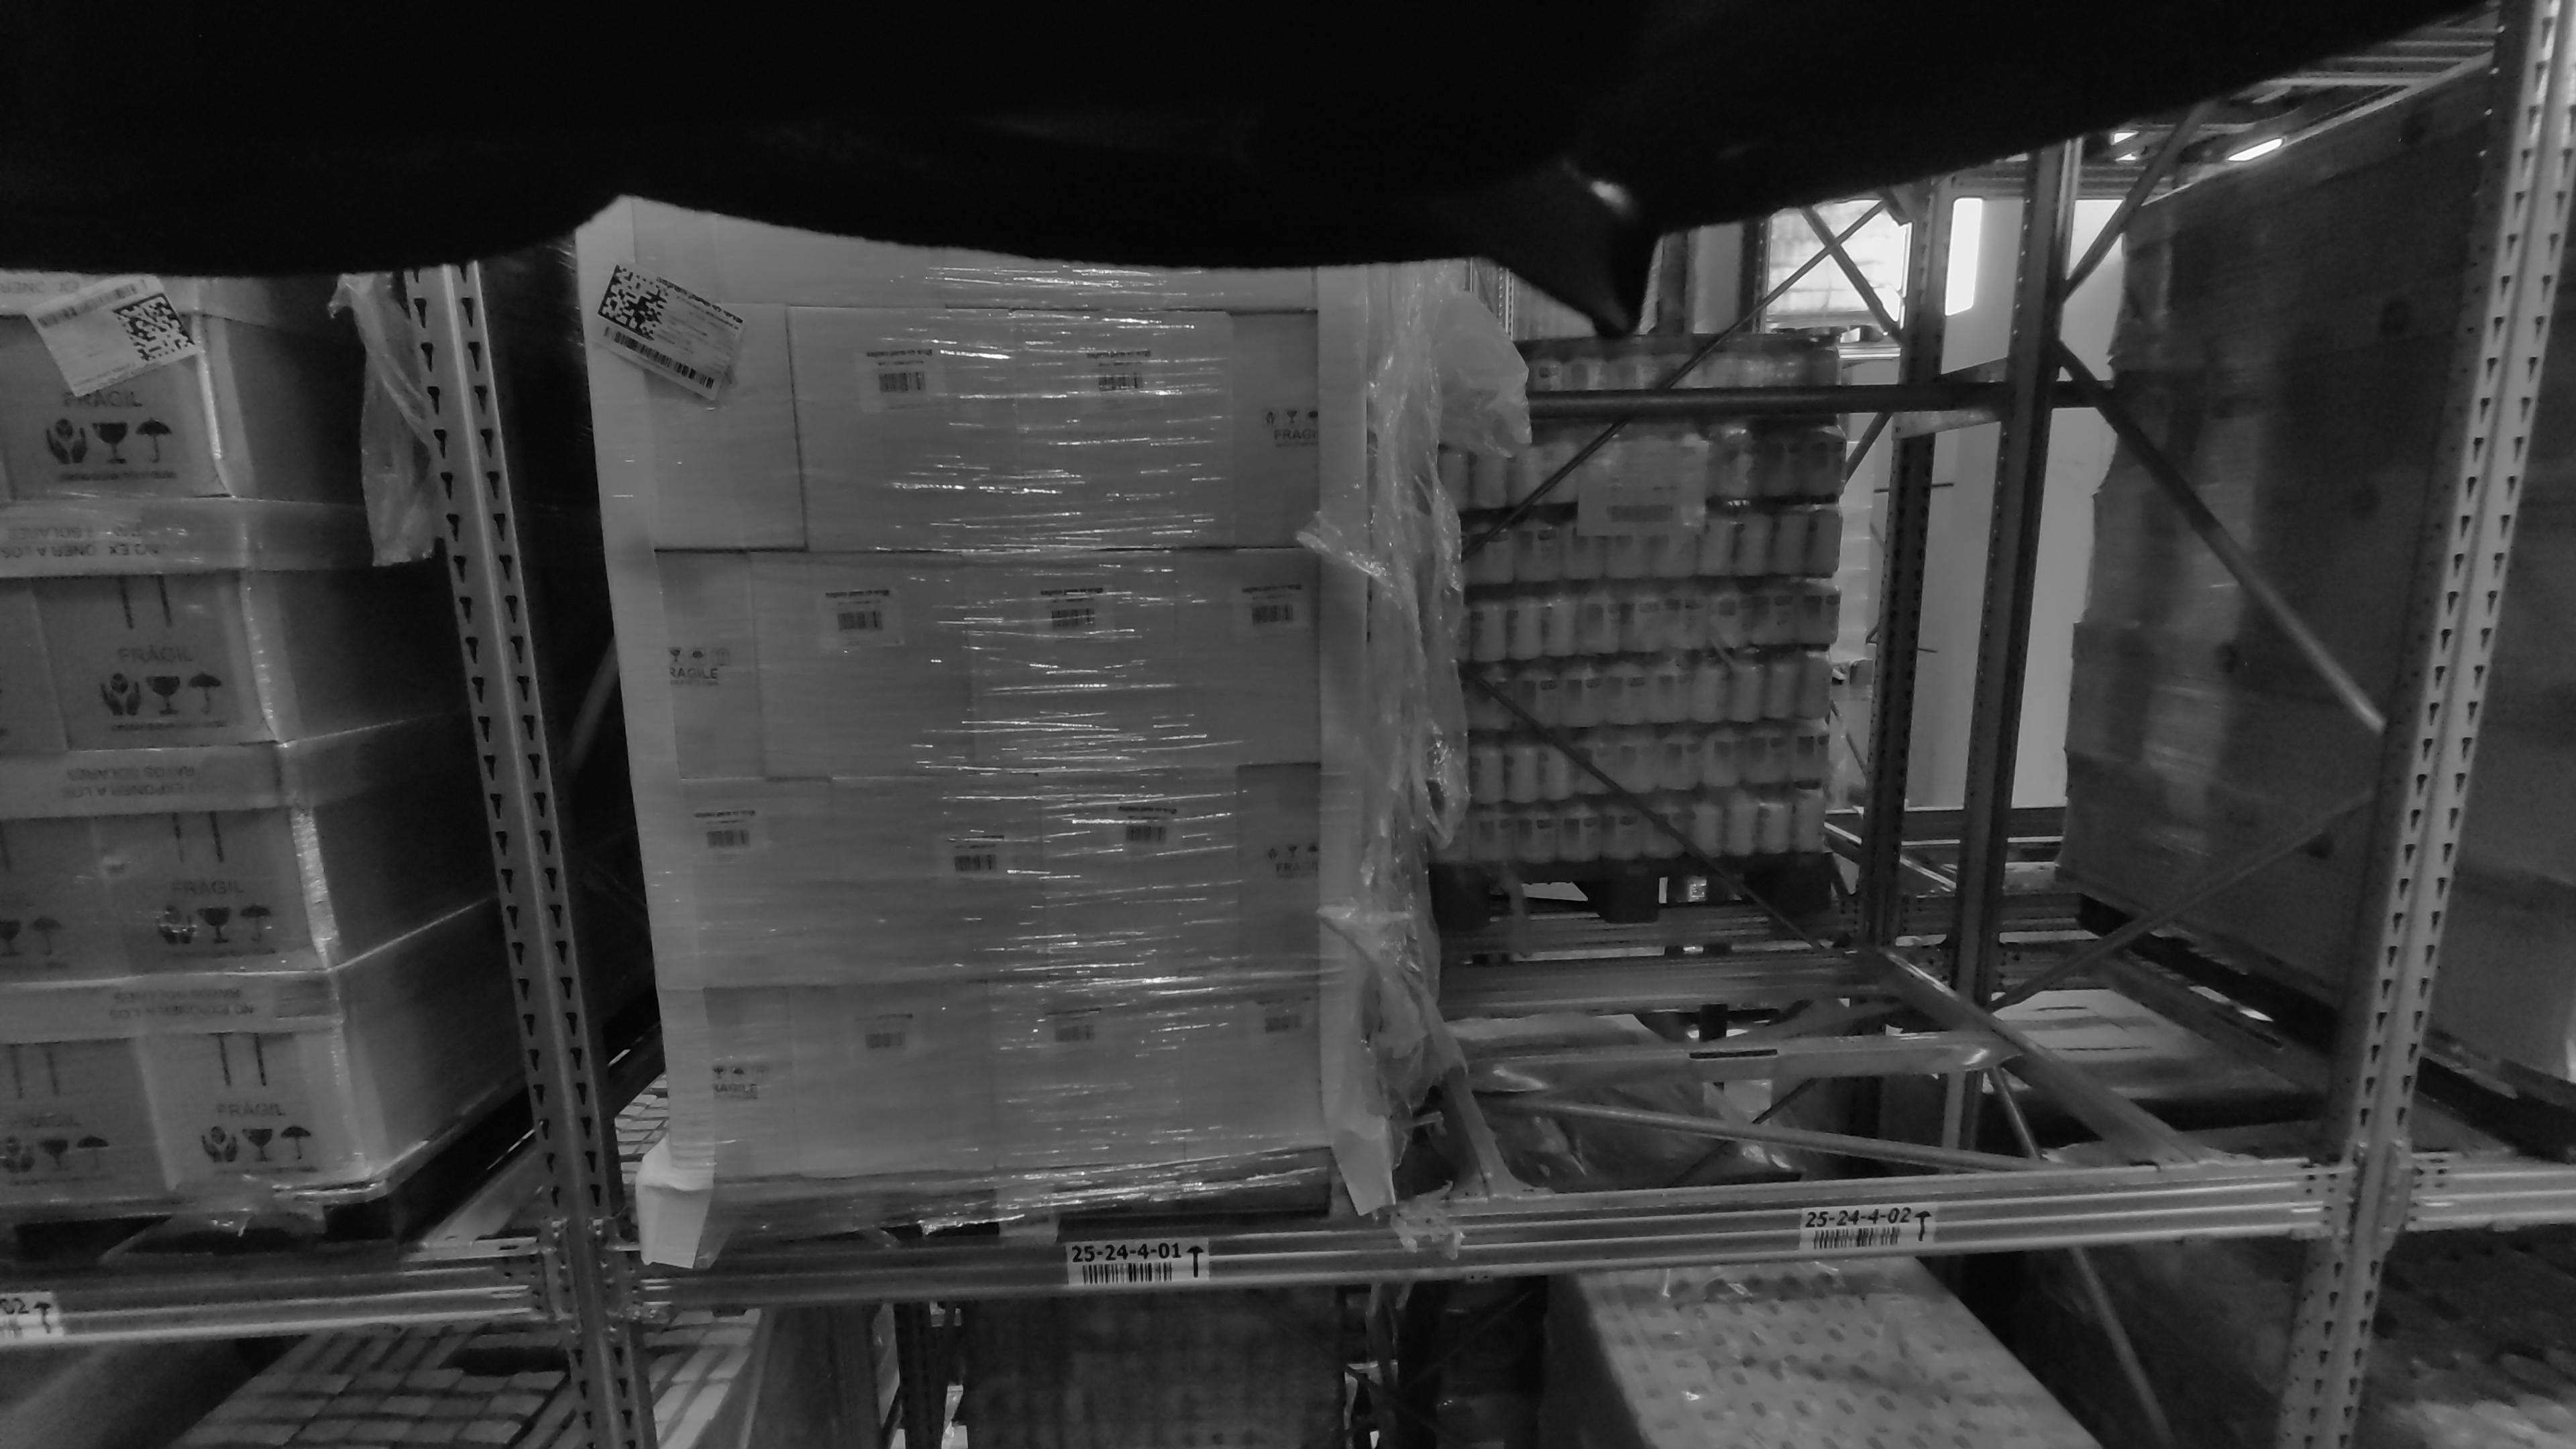empty-shelf: (1525, 226, 2151, 1169)
